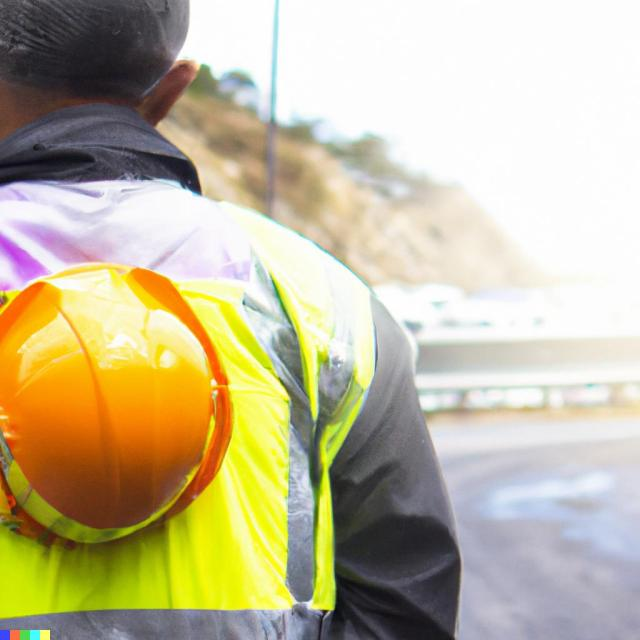Reflective-Jacket: (1, 163, 392, 637)
Safety-Helmet: (1, 260, 235, 554)
